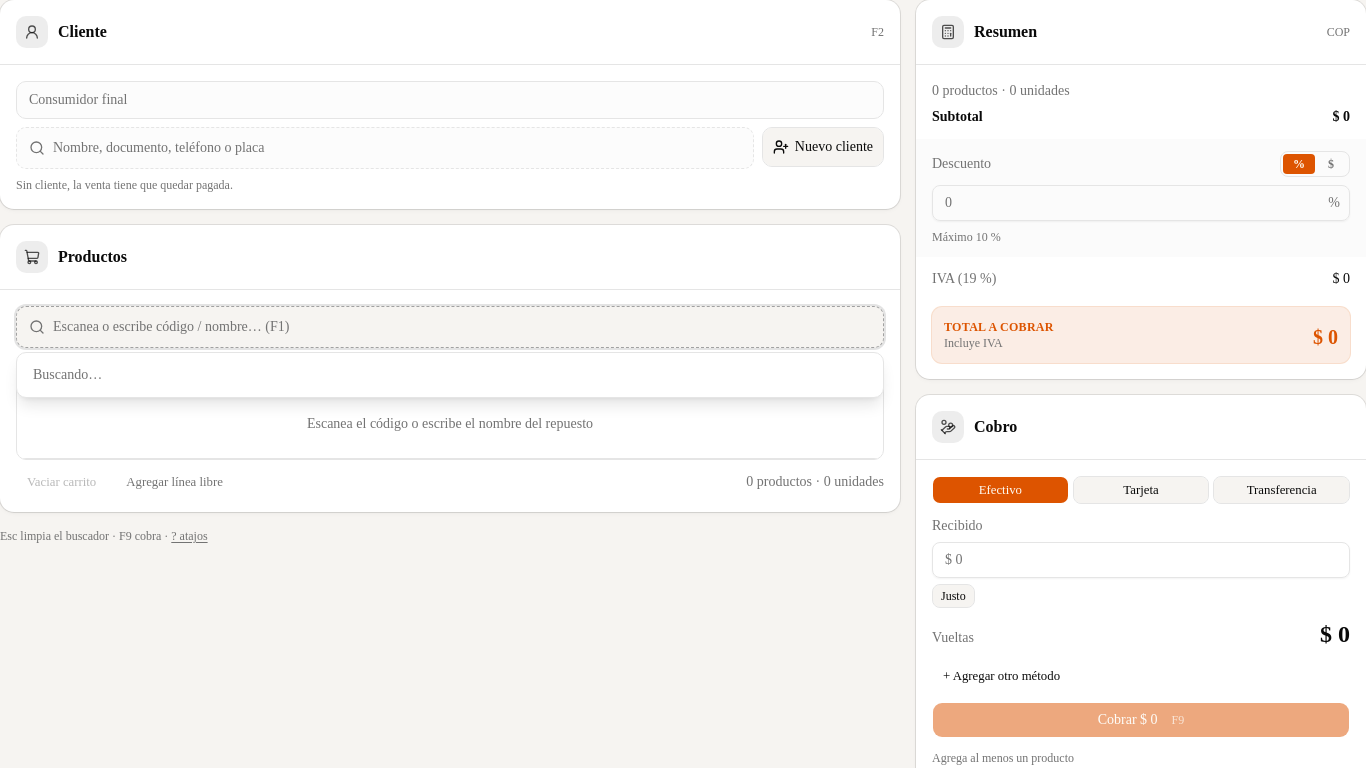
Test: VenderMostrador › si el éxito llega sin id o número de venta no inventa la tarjeta
The width and height of the screenshot is (1366, 768).
Type "Filtro" into the dropdown named "Buscar repuesto" at (462, 327), box [53,307,871,347]
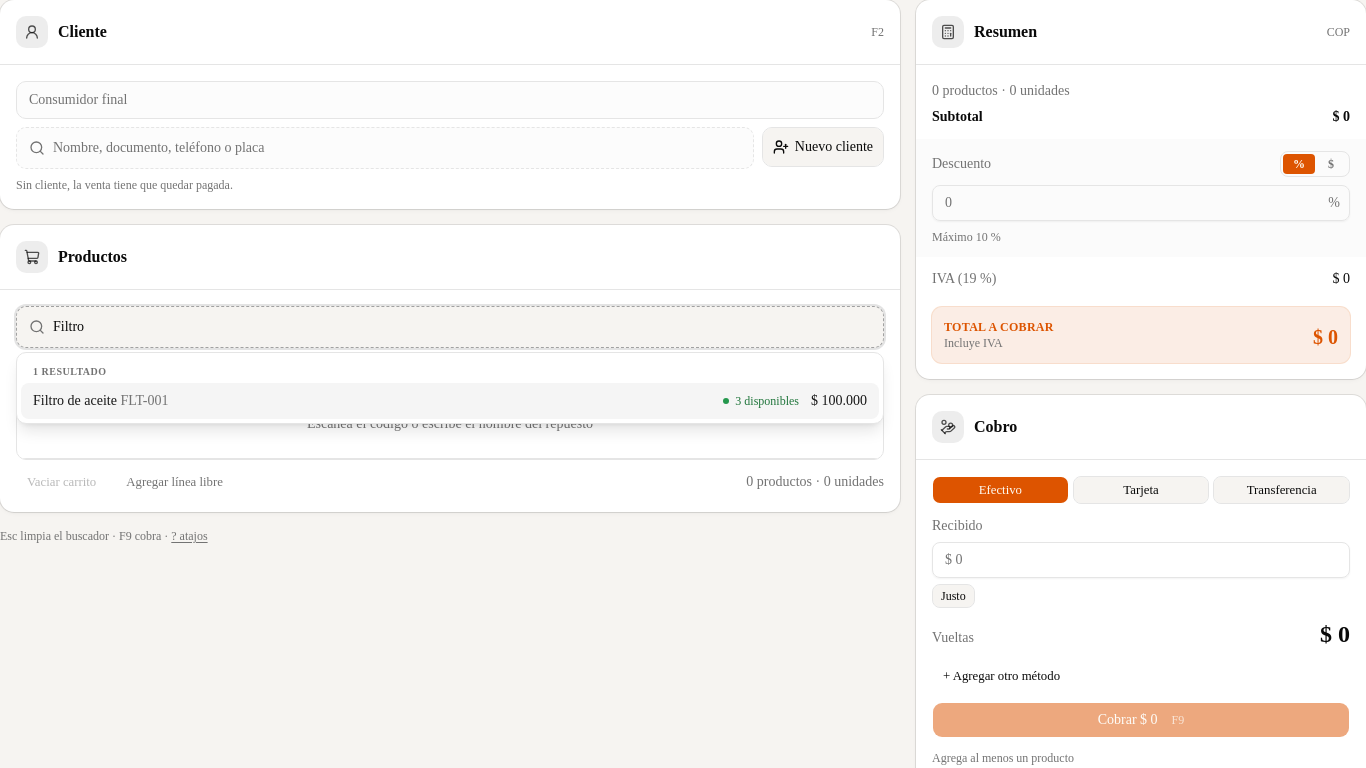
Click the option "Filtro de aceite FLT-001 3 disponibles $ 100.000" at (75, 401), box [21,383,879,419]
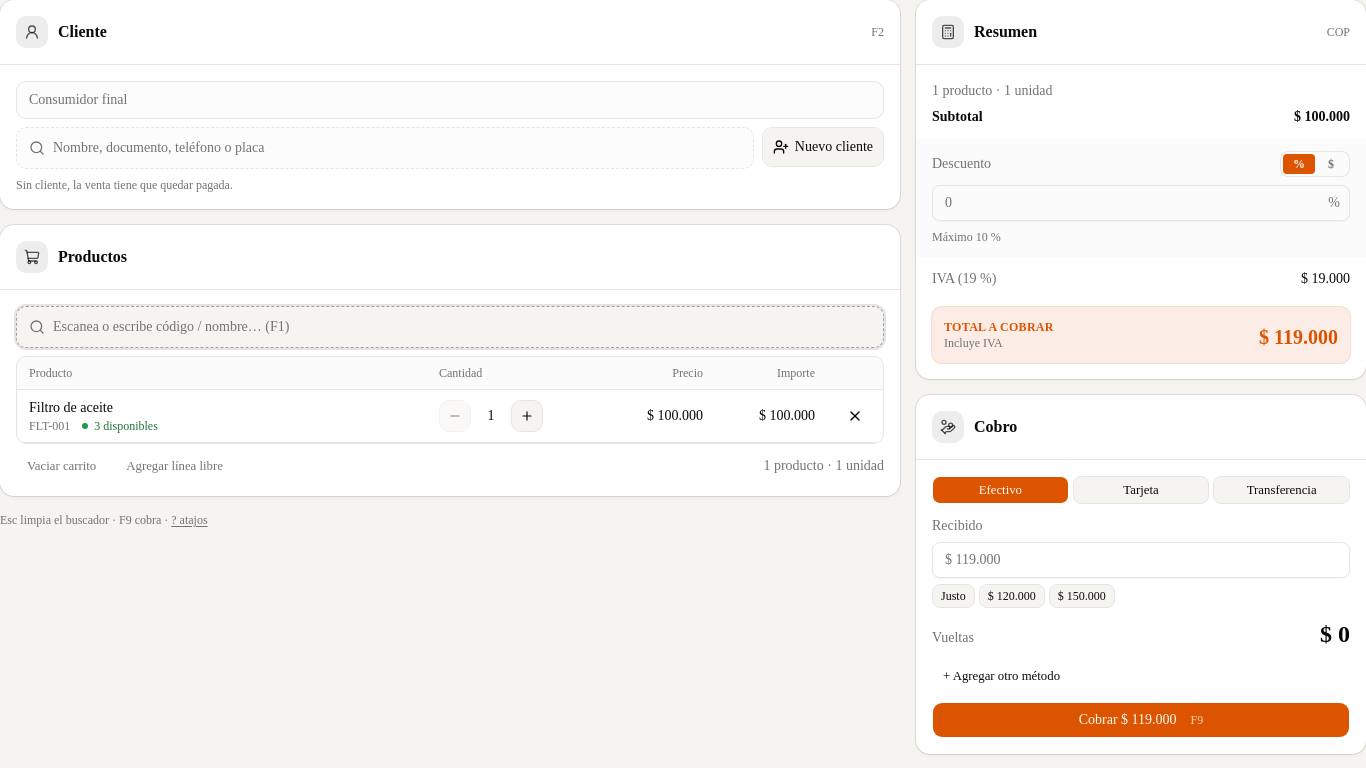
Click the button "Cobrar $ 119.000 F9" at (1141, 720), box [932,702,1350,738]
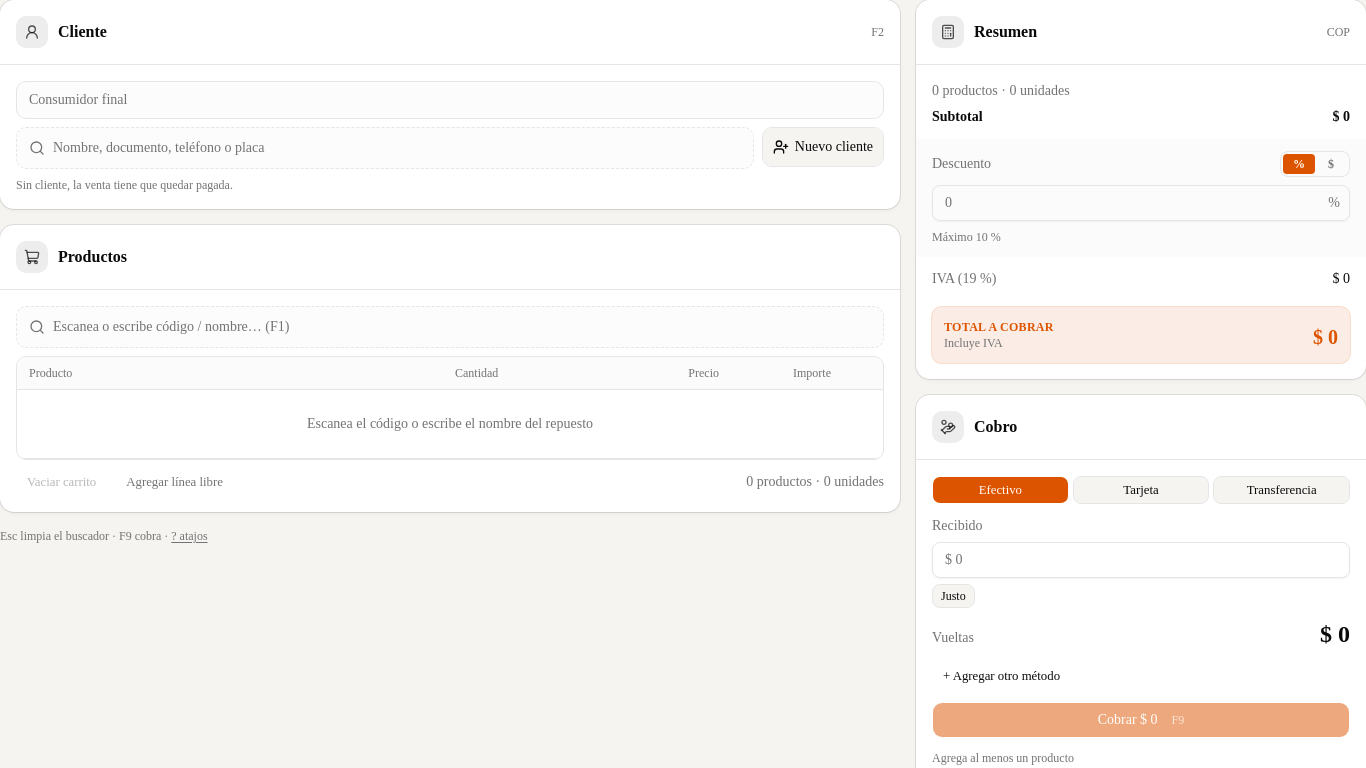
Expected: the dropdown named "Buscar repuesto" is shown, [53,307,871,347]
Now the text "Filtro de aceite" is gone
